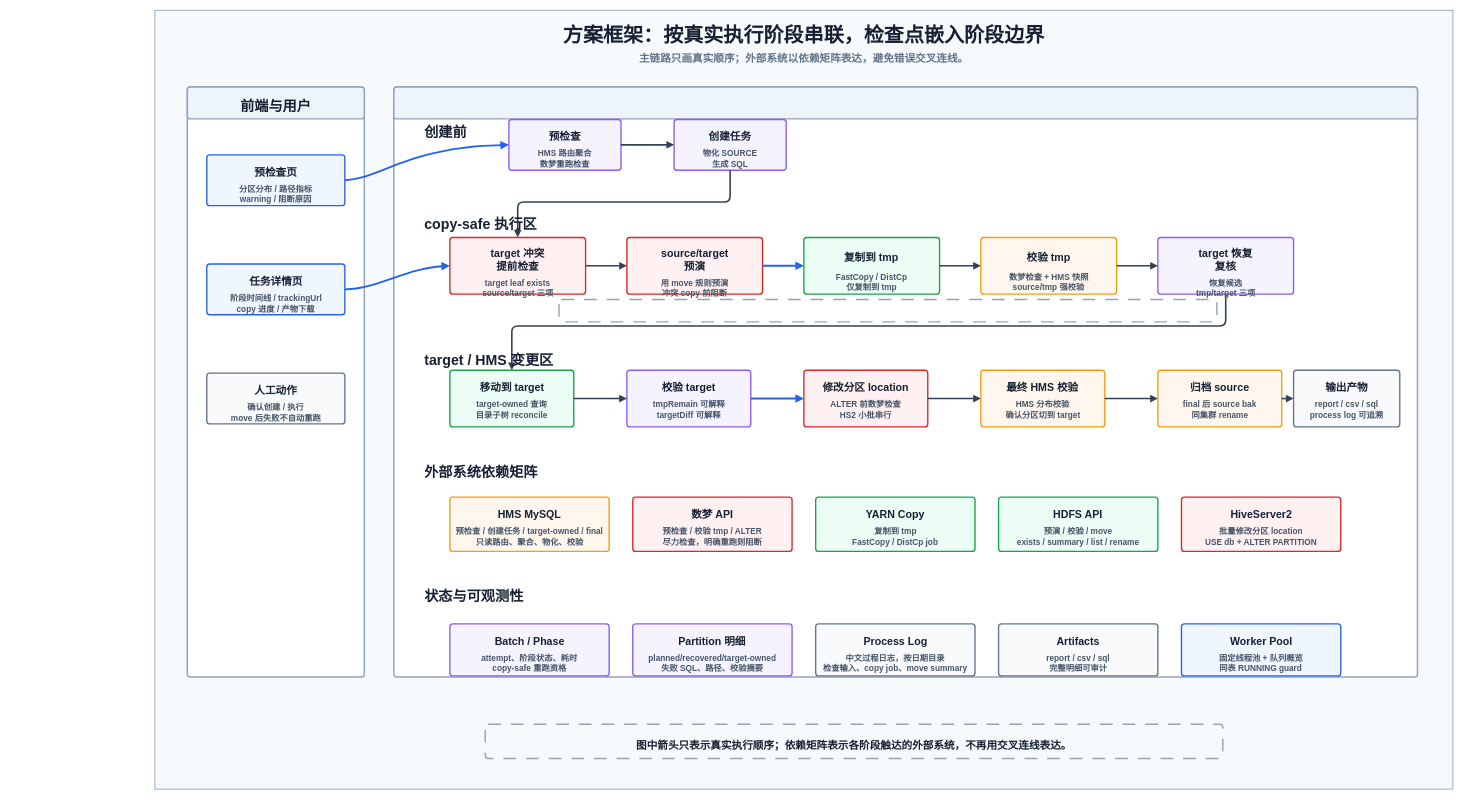
Some shapes in this 1463 by 800 pixel diagram are drawn without their labels. Each missing label, with the centre of its shape:
"copy-safe 阶段失败可 RERUN_COPY；进入 move / ALTER / final 后不自动重跑" goes at (x=887, y=310).
"meta-governance 控制服务" goes at (x=905, y=102).
